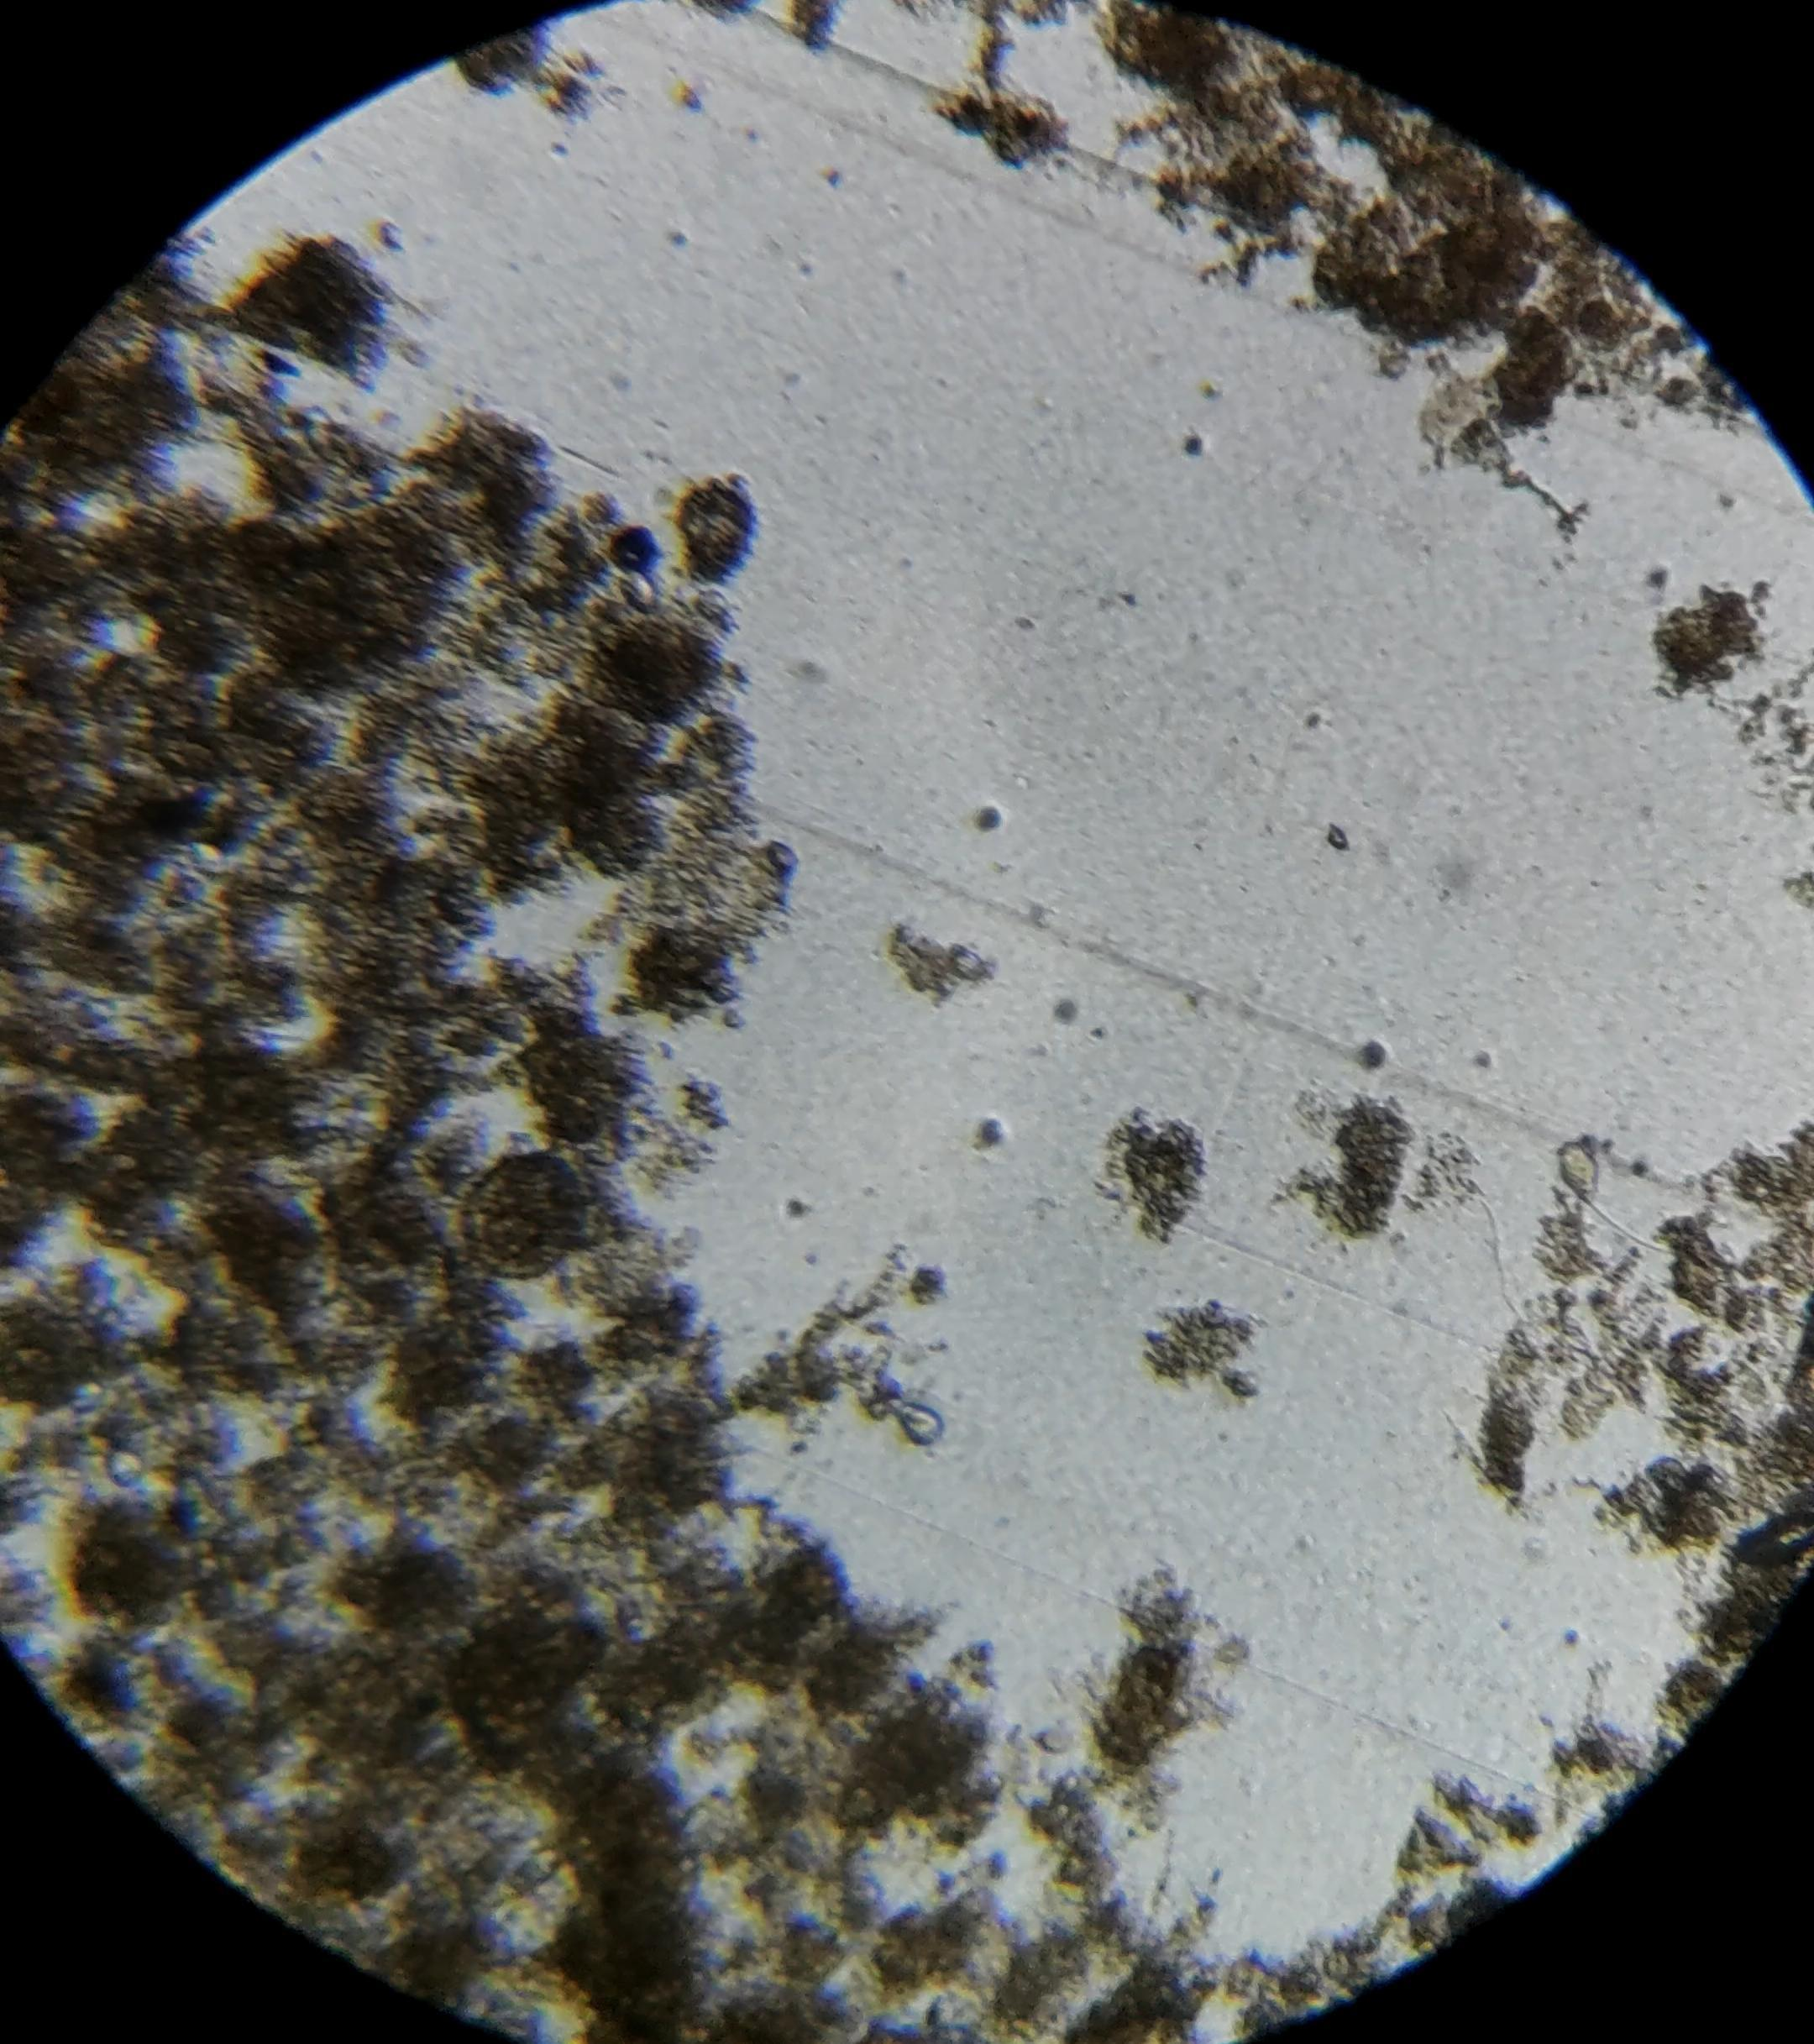Arcella: (466, 1154, 581, 1279)
